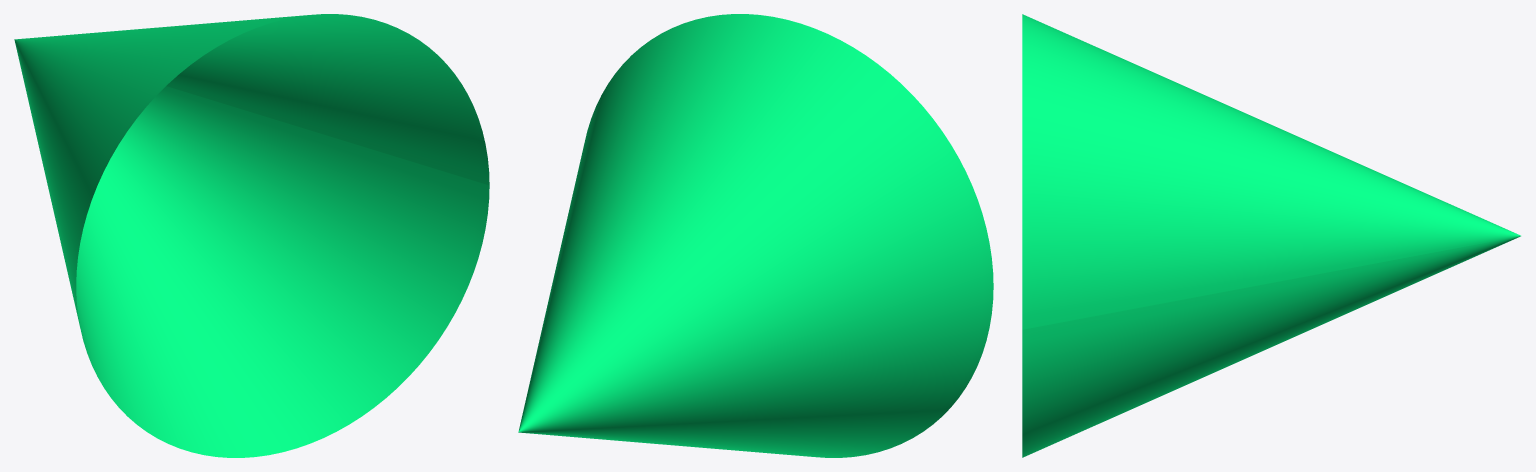
Rendered from einstein_mass_energy_transform_all_30fps.glb.
3 views of the same model, side by side, from view 1: azimuth 30°, elevation 25°; view 2: azimuth 150°, elevation 25°; view 3: azimuth 270°, elevation 25° (orthographic). The views are drawn at different scales.
Visible parts, largest first — view 1: einstein_mass_energy_transform_animated; view 2: einstein_mass_energy_transform_animated; view 3: einstein_mass_energy_transform_animated.
Part boxes in pixels (box(x1,y1,x2,y2)): einstein_mass_energy_transform_animated: box(14, 14, 489, 457); einstein_mass_energy_transform_animated: box(518, 14, 993, 457); einstein_mass_energy_transform_animated: box(1022, 14, 1520, 457).
Size of the model in its own units: 12 by 12 by 13.5.
